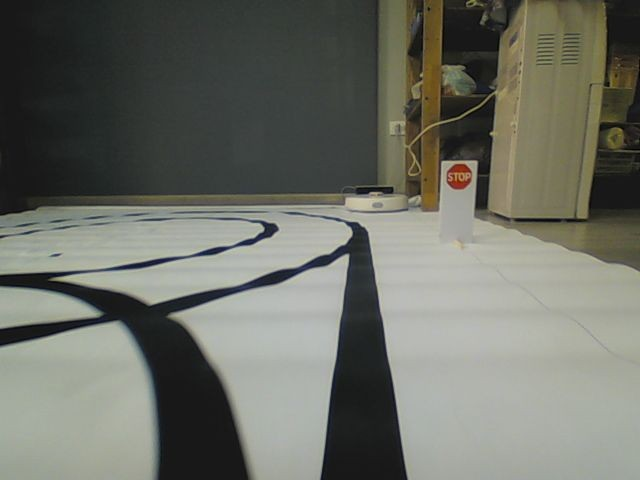Stop: (444, 163, 473, 191)
